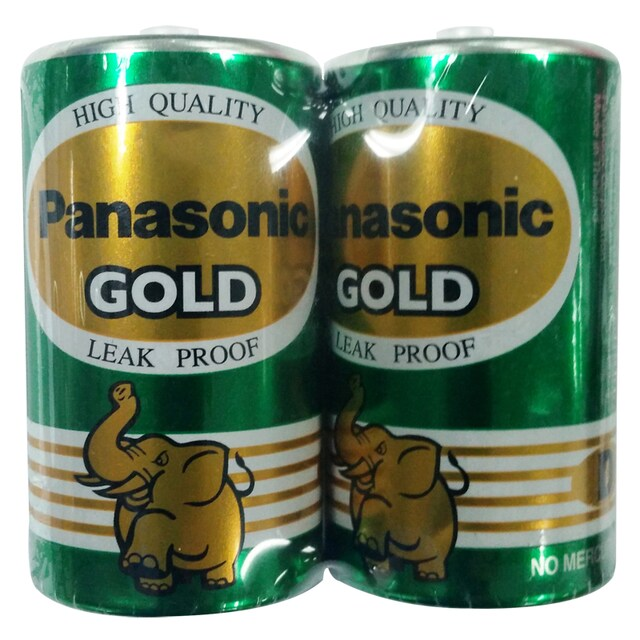Battery: (19, 23, 323, 619), (321, 25, 621, 612)
